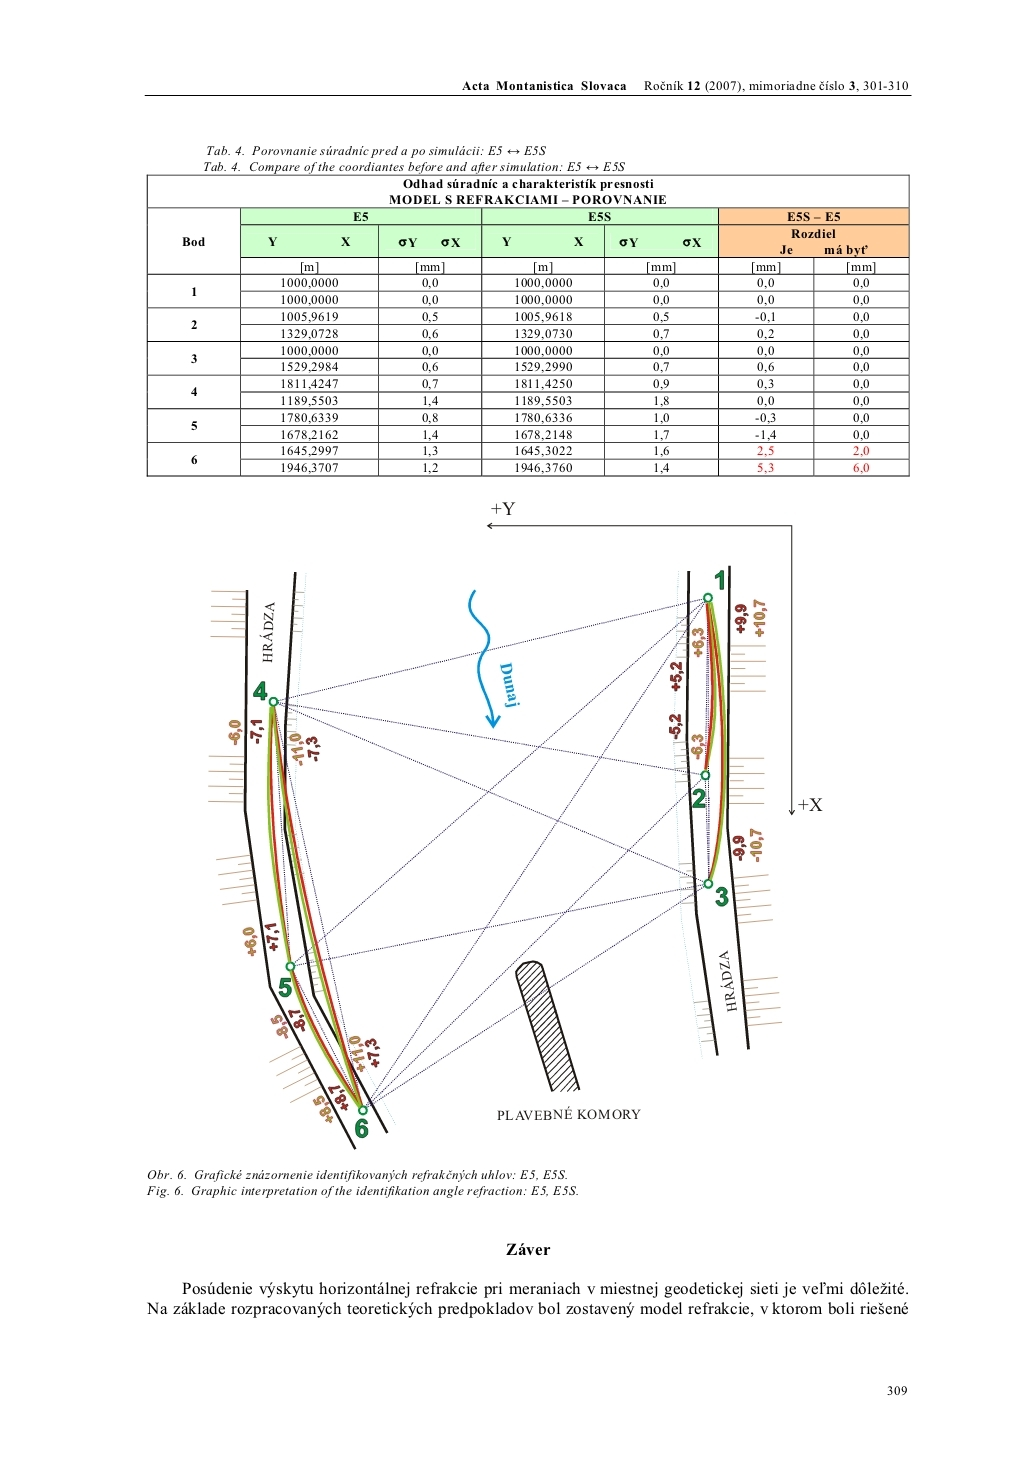Table: (146, 173, 909, 476)
figure: (208, 502, 822, 1149)
